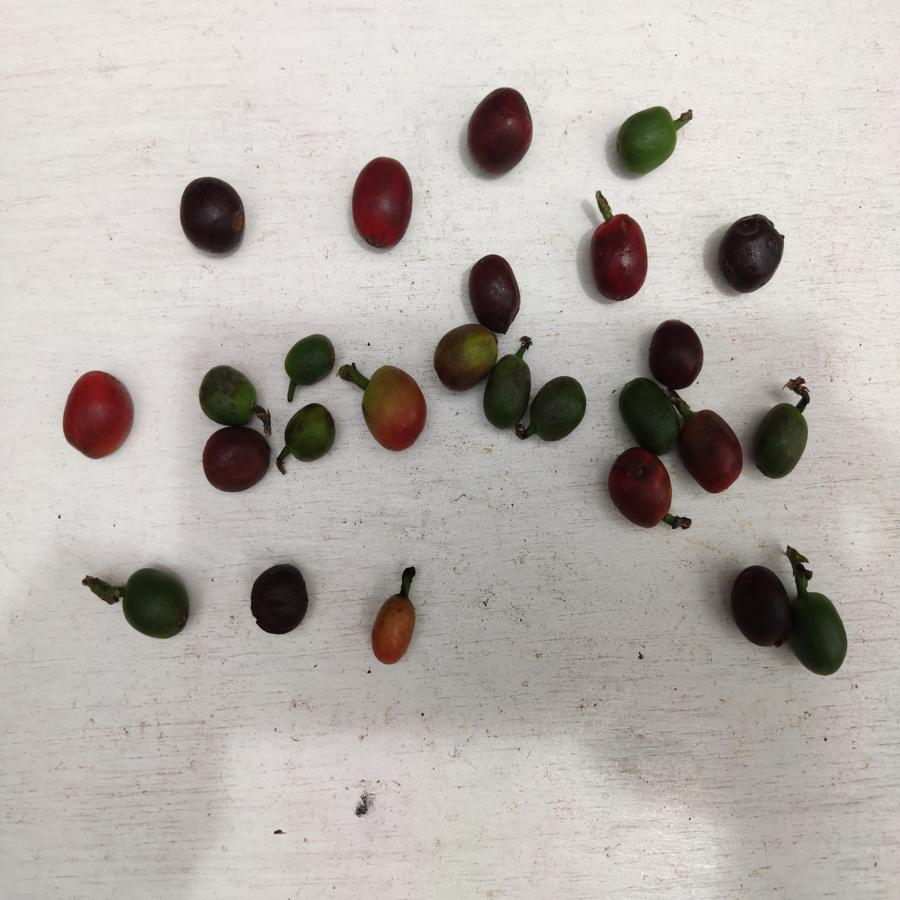Inmaduro: (115, 561, 187, 647), (791, 586, 852, 680), (614, 105, 679, 182), (750, 400, 810, 480), (619, 376, 679, 452), (529, 374, 594, 443), (193, 363, 259, 423), (485, 355, 539, 425), (280, 404, 340, 466), (278, 331, 338, 387)
Maduro: (61, 369, 136, 461), (349, 157, 421, 248)
Pinton: (356, 361, 431, 449), (427, 324, 487, 393), (370, 590, 421, 669)
Sobremaduro: (172, 176, 249, 259), (465, 82, 535, 172), (679, 403, 744, 497), (715, 211, 786, 294), (589, 210, 651, 303), (196, 426, 273, 493), (732, 563, 792, 648), (612, 449, 673, 532), (467, 251, 523, 335), (248, 563, 312, 635), (645, 313, 703, 386)
